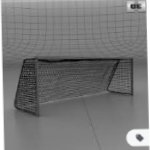goals: (14, 55, 137, 119)
